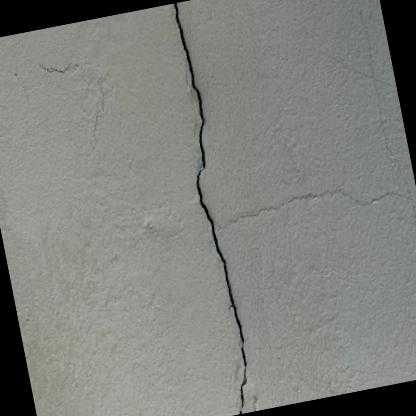crack: (172, 2, 250, 414)
